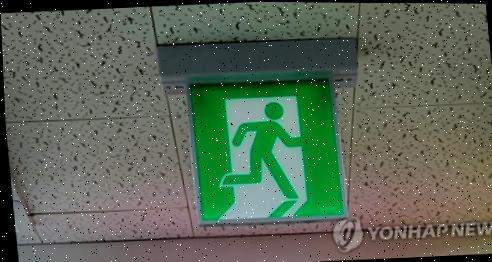emergency_exit: (186, 70, 349, 227)
